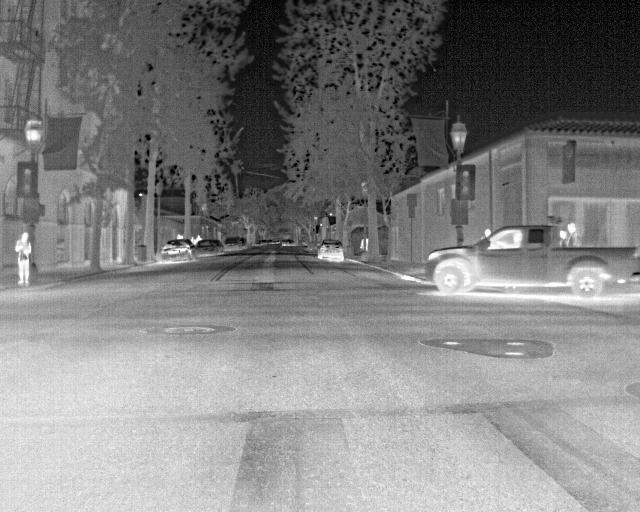bicycle: (421, 223, 636, 295), (157, 238, 194, 265), (316, 236, 346, 263), (194, 237, 223, 259), (222, 235, 242, 253)
empty: (14, 232, 32, 285), (563, 220, 581, 248)
